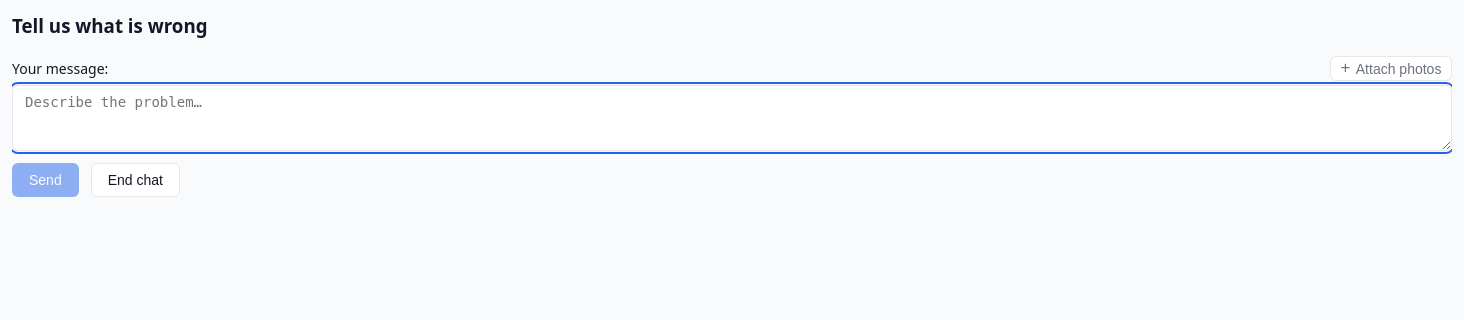
Test: TriageChat › shows the customer turn immediately and the reply as it streams
The width and height of the screenshot is (1464, 320).
Type "It will not heat." into the text box.
click(732, 118); type("It will not heat.")  # box 12,85 -> 1452,151
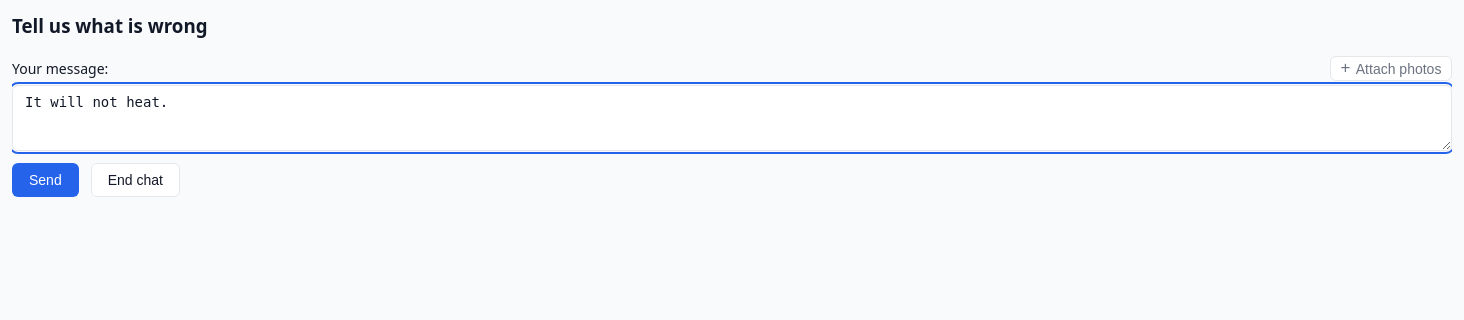
Click the button "Send".
click(45, 180)  # box 12,163 -> 79,197
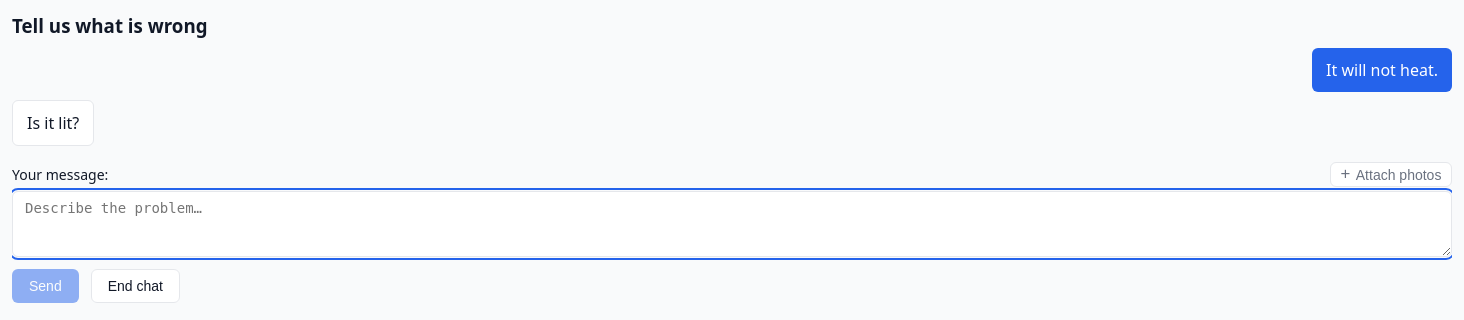
Now the list item "It will not heat." is shown, box 1312,48 -> 1452,92
Now the list item "Is it lit?" is shown, box 12,100 -> 94,146
